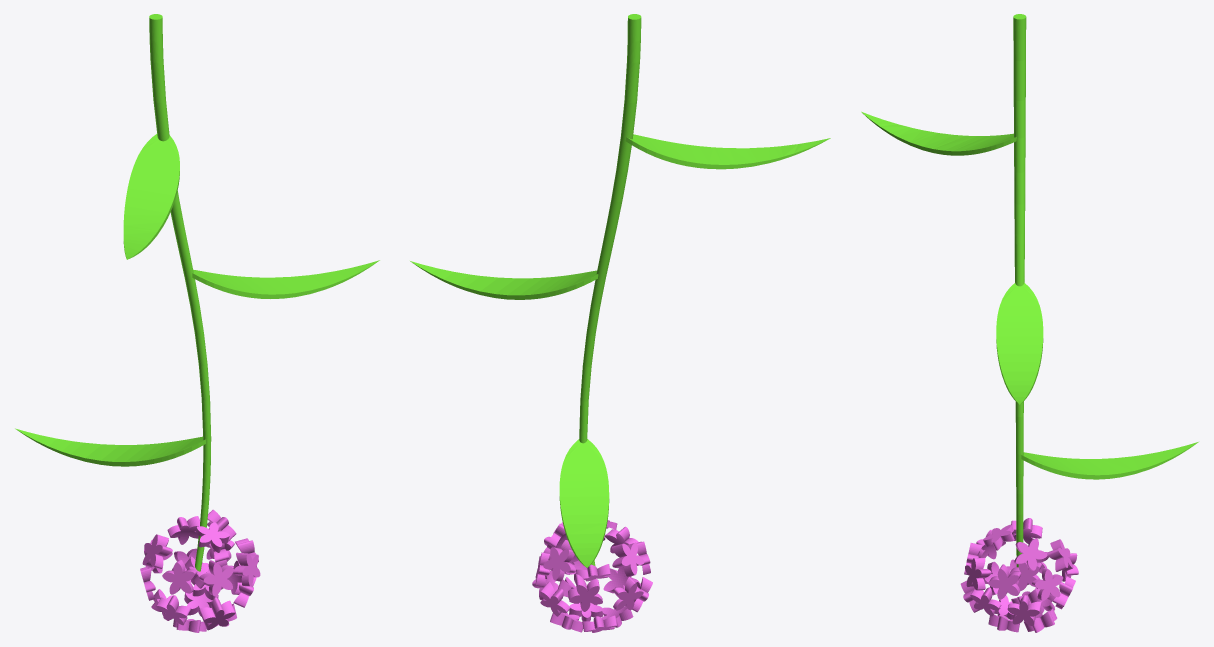
File: MilkWeedLowPolyPly.fbx
3 renders of one model, left to right at view 1: azimuth 30°, elevation 25°; view 2: azimuth 150°, elevation 25°; view 3: azimuth 270°, elevation 25°, orthographic. The views are drawn at different scales.
Visible parts, largest first — view 1: imagetostl_mesh0; view 2: imagetostl_mesh0; view 3: imagetostl_mesh0.
Part boxes in pixels (<box>): imagetostl_mesh0: <box>15,14,379,632</box>; imagetostl_mesh0: <box>410,14,830,632</box>; imagetostl_mesh0: <box>861,14,1198,632</box>.
Bounding box in the file's own units: 7340 × 12861 × 6712.
